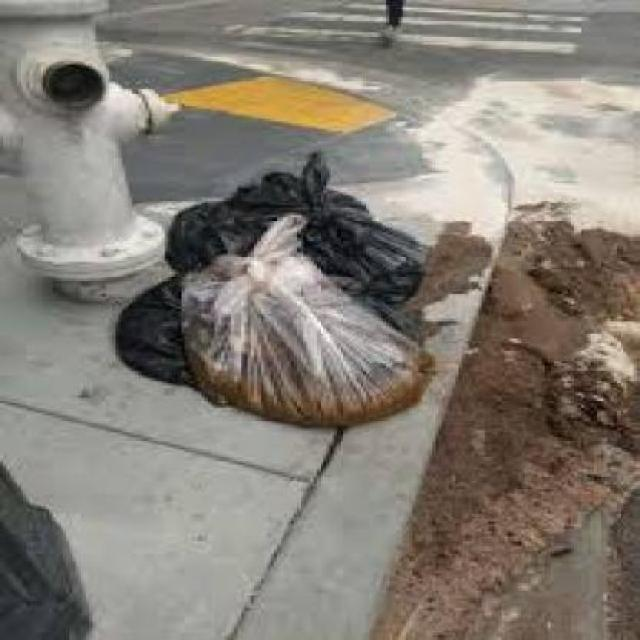garbage: (102, 156, 452, 452), (0, 452, 105, 637)
